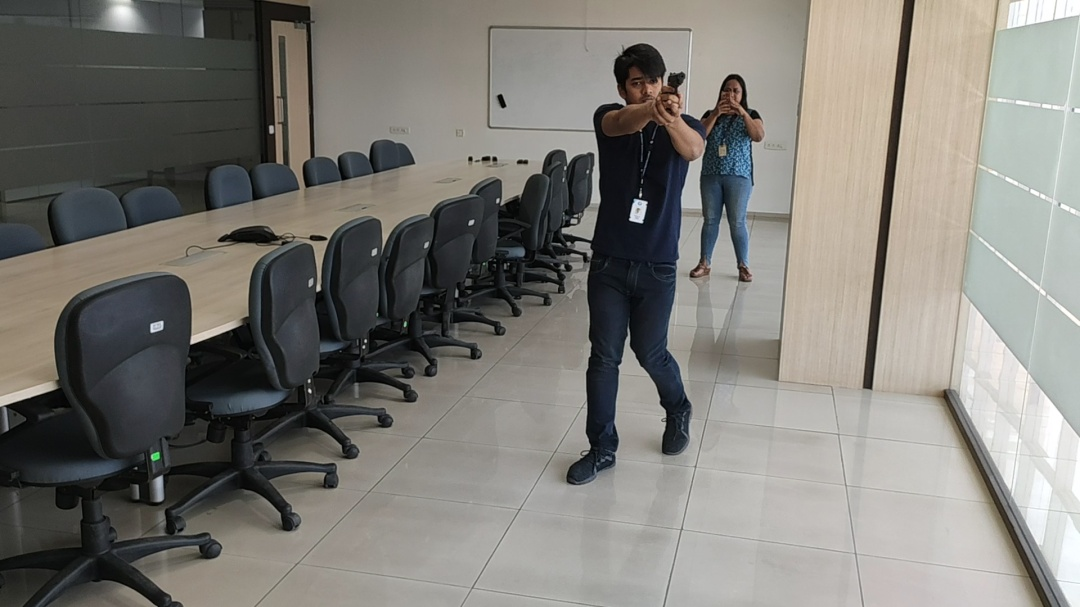gun: (665, 66, 692, 103)
